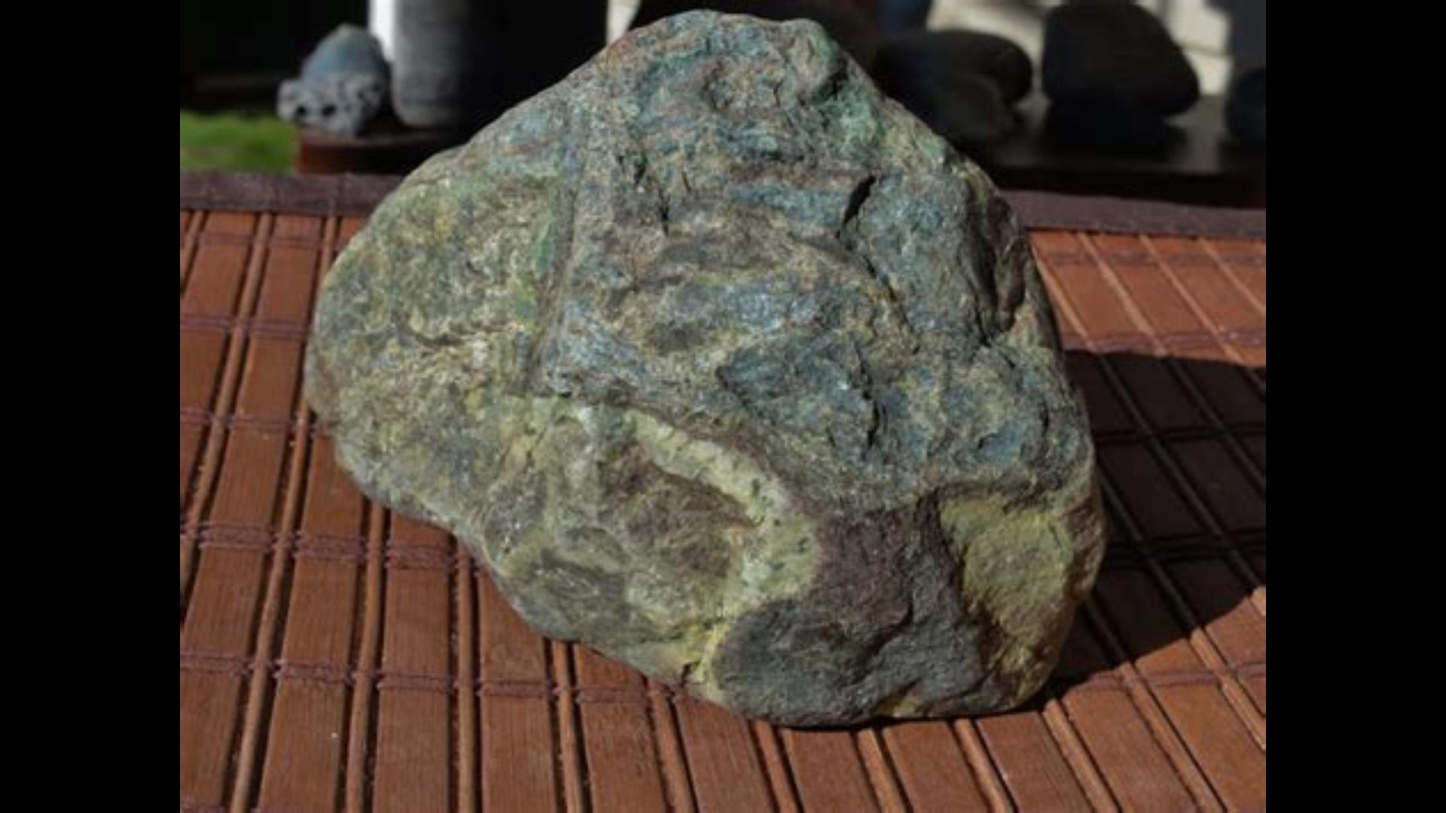rock: (306, 11, 1101, 719)
